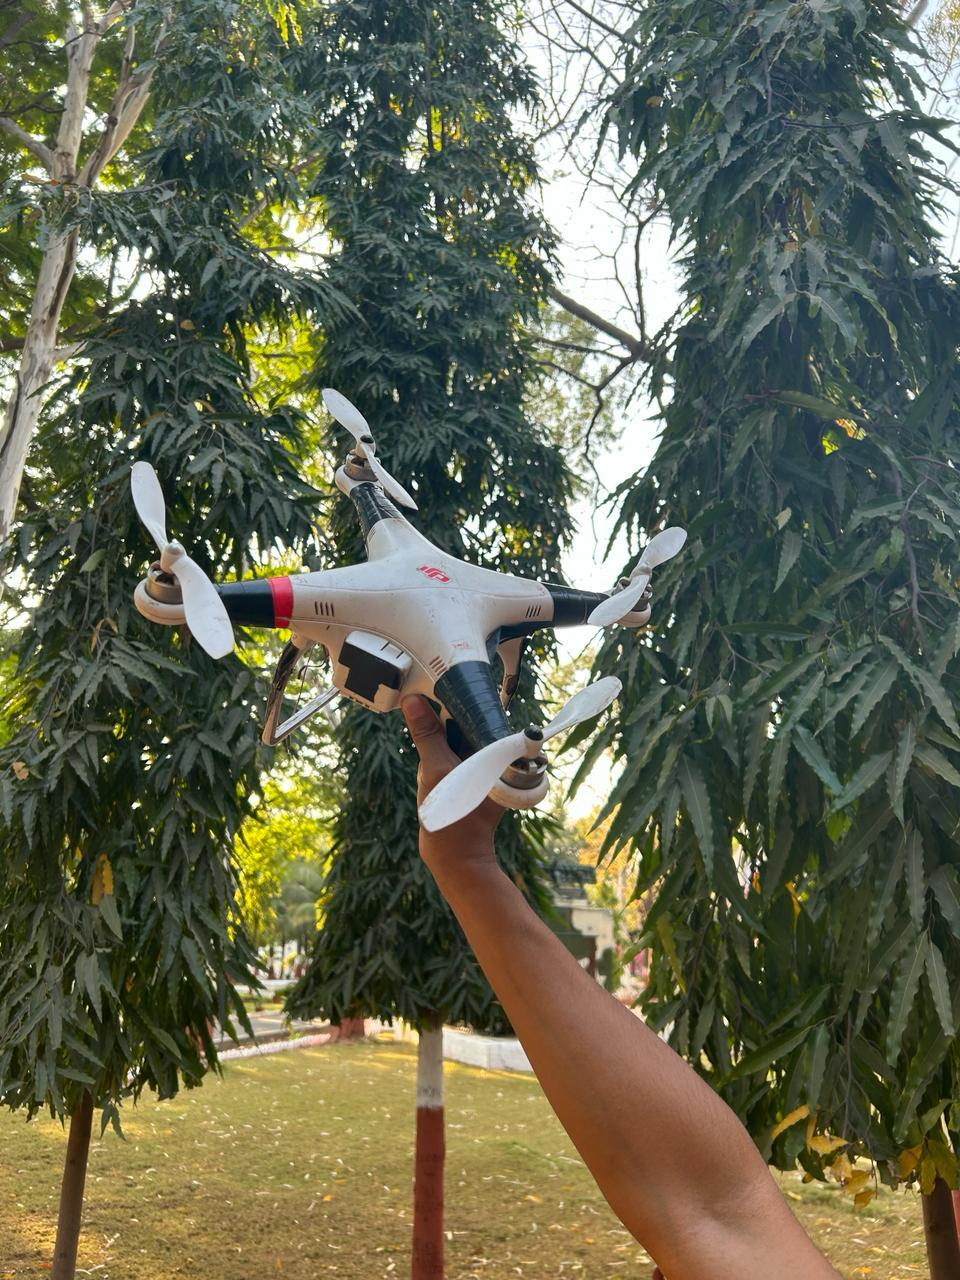drone: (97, 357, 748, 834)
